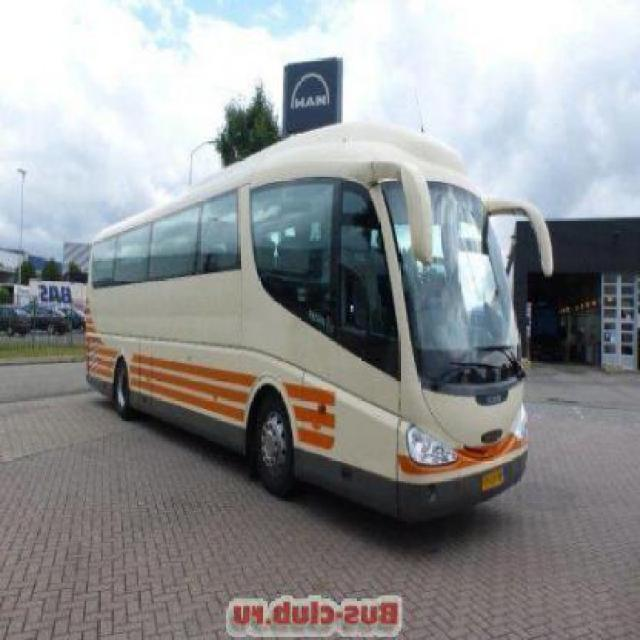bus: (85, 118, 558, 529)
